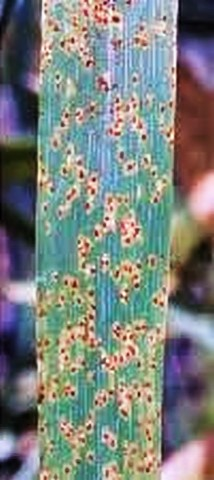Leaf Rust: (31, 9, 166, 478)
